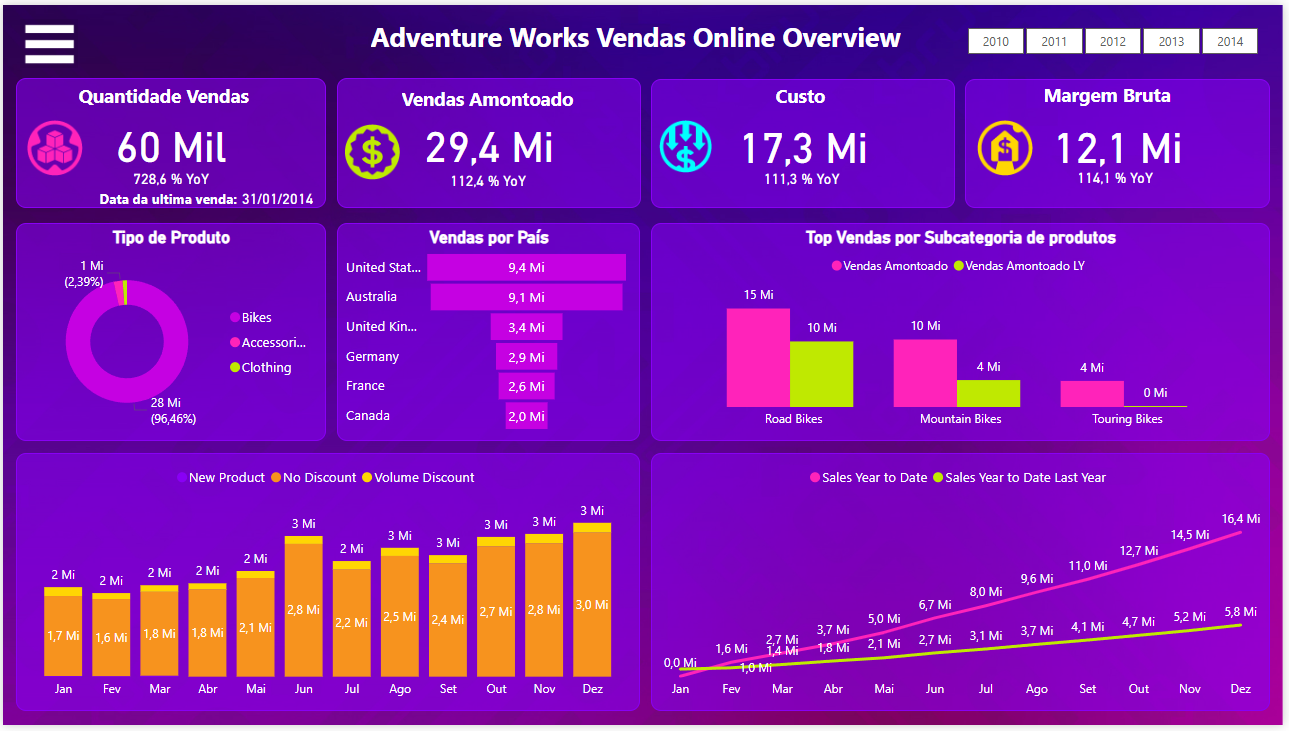

What the dashboard file says about the page in this screenshot:
{"tool":"powerbi","page":{"name":"Vendas Online Overview","canvas":[1280,720],"ordinal":0},"visuals":[{"type":"slicer","fields":{"Values":["dim_calendario.Ano"]},"box":[938.9,15.6,341.1,36.7],"z":0},{"type":"card","fields":{"Values":["#Medidas.Sales Amount"]},"box":[334.2,72.5,303.3,130],"z":1000},{"type":"card","fields":{"Values":["#Medidas.Gross Margin"]},"box":[962.3,73.8,304.6,129.2],"z":2000},{"type":"card","fields":{"Values":["#Medidas.Cost"]},"box":[647.6,73.6,304.4,129],"z":3000},{"type":"card","fields":{"Values":["#Medidas.Sales Quantity"]},"box":[13.3,72.5,310,130],"z":4000},{"type":"donutChart","title":"Tipo de Produto","fields":{"Y":["#Medidas.Sales Amount"],"Category":["DimProductCategory.EnglishProductCategoryName"]},"box":[12.7,218.2,310,218.2],"z":5000},{"type":"funnel","title":"Vendas por País","fields":{"Y":["#Medidas.Sales Amount"],"Category":["DimGeography.EnglishCountryRegionName"]},"box":[334,218,303,218],"z":6000},{"type":"clusteredColumnChart","title":"Top Vendas por Subcategoria de produtos","fields":{"Y":["#Medidas.Sales Amount","#Medidas.Sales Amount LY"],"Category":["DimProductSubcategory.EnglishProductSubcategoryName"]},"box":[648,218,619,218],"z":7000},{"type":"columnChart","fields":{"Y":["#Medidas.Sales Amount"],"Category":["dim_calendario.Mes Abrev"],"Series":["DimPromotion.EnglishPromotionType"]},"box":[13,448,624,258],"z":8000},{"type":"lineChart","fields":{"Y":["#Medidas.Sales Year to Date","#Medidas.Sales Year to Date Last Year"],"Category":["dim_calendario.Mes Abrev"]},"box":[648,448,619,258],"z":9000},{"type":"textbox","box":[394.5,76,238.9,48.9],"z":10000},{"type":"textbox","box":[1036.2,72.4,157.8,37.8],"z":11000},{"type":"textbox","box":[767.8,73.3,77.8,37.8],"z":12000},{"type":"textbox","box":[71.3,73.3,192.2,37.8],"z":13000},{"type":"image","box":[336.7,108.2,65.6,77.8],"z":14000},{"type":"image","box":[969.2,108.3,65.8,70],"z":15000},{"type":"image","box":[650,110,65.8,63.3],"z":16000},{"type":"image","box":[19.1,104.4,65.6,77.8],"z":17000},{"type":"card","fields":{"Values":["#Medidas.Sales Delta % txt"]},"box":[417.8,160.5,134.4,33.3],"z":18000},{"type":"card","fields":{"Values":["#Medidas.Gross Margin Delta % txt"]},"box":[1052.9,159.1,117.8,28.9],"z":19000},{"type":"card","fields":{"Values":["#Medidas.Cost Delta % txt"]},"box":[730,157.8,136.7,33.3],"z":20000},{"type":"card","fields":{"Values":["#Medidas.Sales Quantity Delta % txt"]},"box":[120.2,155.6,95.6,37.8],"z":21000},{"type":"card","fields":{"Values":["#Medidas.Sales Last Date"]},"box":[224.7,181.1,98.9,27.8],"z":22000},{"type":"textbox","box":[92.5,180.4,151.7,46.7],"z":23000},{"type":"textbox","box":[363.3,7.8,638.9,60],"z":24000},{"type":"image","box":[12.2,5.6,67.8,64.4],"z":25000},{"type":"actionButton","box":[13.3,5.6,73.3,64.4],"z":25500}]}

Visuals, with their boxes in screenshot pixels (x1, y1, x2, y2), scaled from the page's 1280x720 canvas onto the 1289x731 screenshot:
slicer - dim_calendario.Ano: Rect(946, 16, 1288, 53)
card - #Medidas.Sales Amount: Rect(337, 74, 642, 206)
card - #Medidas.Gross Margin: Rect(969, 75, 1276, 206)
card - #Medidas.Cost: Rect(652, 75, 959, 206)
card - #Medidas.Sales Quantity: Rect(13, 74, 326, 206)
"Tipo de Produto" donutChart: Rect(13, 222, 325, 443)
"Vendas por País" funnel: Rect(336, 221, 641, 443)
"Top Vendas por Subcategoria de produtos" clusteredColumnChart: Rect(653, 221, 1276, 443)
columnChart - #Medidas.Sales Amount x dim_calendario.Mes Abrev: Rect(13, 455, 641, 717)
lineChart - #Medidas.Sales Year to Date x #Medidas.Sales Year to Date Last Year: Rect(653, 455, 1276, 717)
textbox: Rect(397, 77, 638, 127)
textbox: Rect(1043, 74, 1202, 112)
textbox: Rect(773, 74, 852, 113)
textbox: Rect(72, 74, 265, 113)
image: Rect(339, 110, 405, 189)
image: Rect(976, 110, 1042, 181)
image: Rect(655, 112, 721, 176)
image: Rect(19, 106, 85, 185)
card - #Medidas.Sales Delta % txt: Rect(421, 163, 556, 197)
card - #Medidas.Gross Margin Delta % txt: Rect(1060, 162, 1179, 191)
card - #Medidas.Cost Delta % txt: Rect(735, 160, 873, 194)
card - #Medidas.Sales Quantity Delta % txt: Rect(121, 158, 217, 196)
card - #Medidas.Sales Last Date: Rect(226, 184, 326, 212)
textbox: Rect(93, 183, 246, 231)
textbox: Rect(366, 8, 1009, 69)
image: Rect(12, 6, 81, 71)
actionButton: Rect(13, 6, 87, 71)
